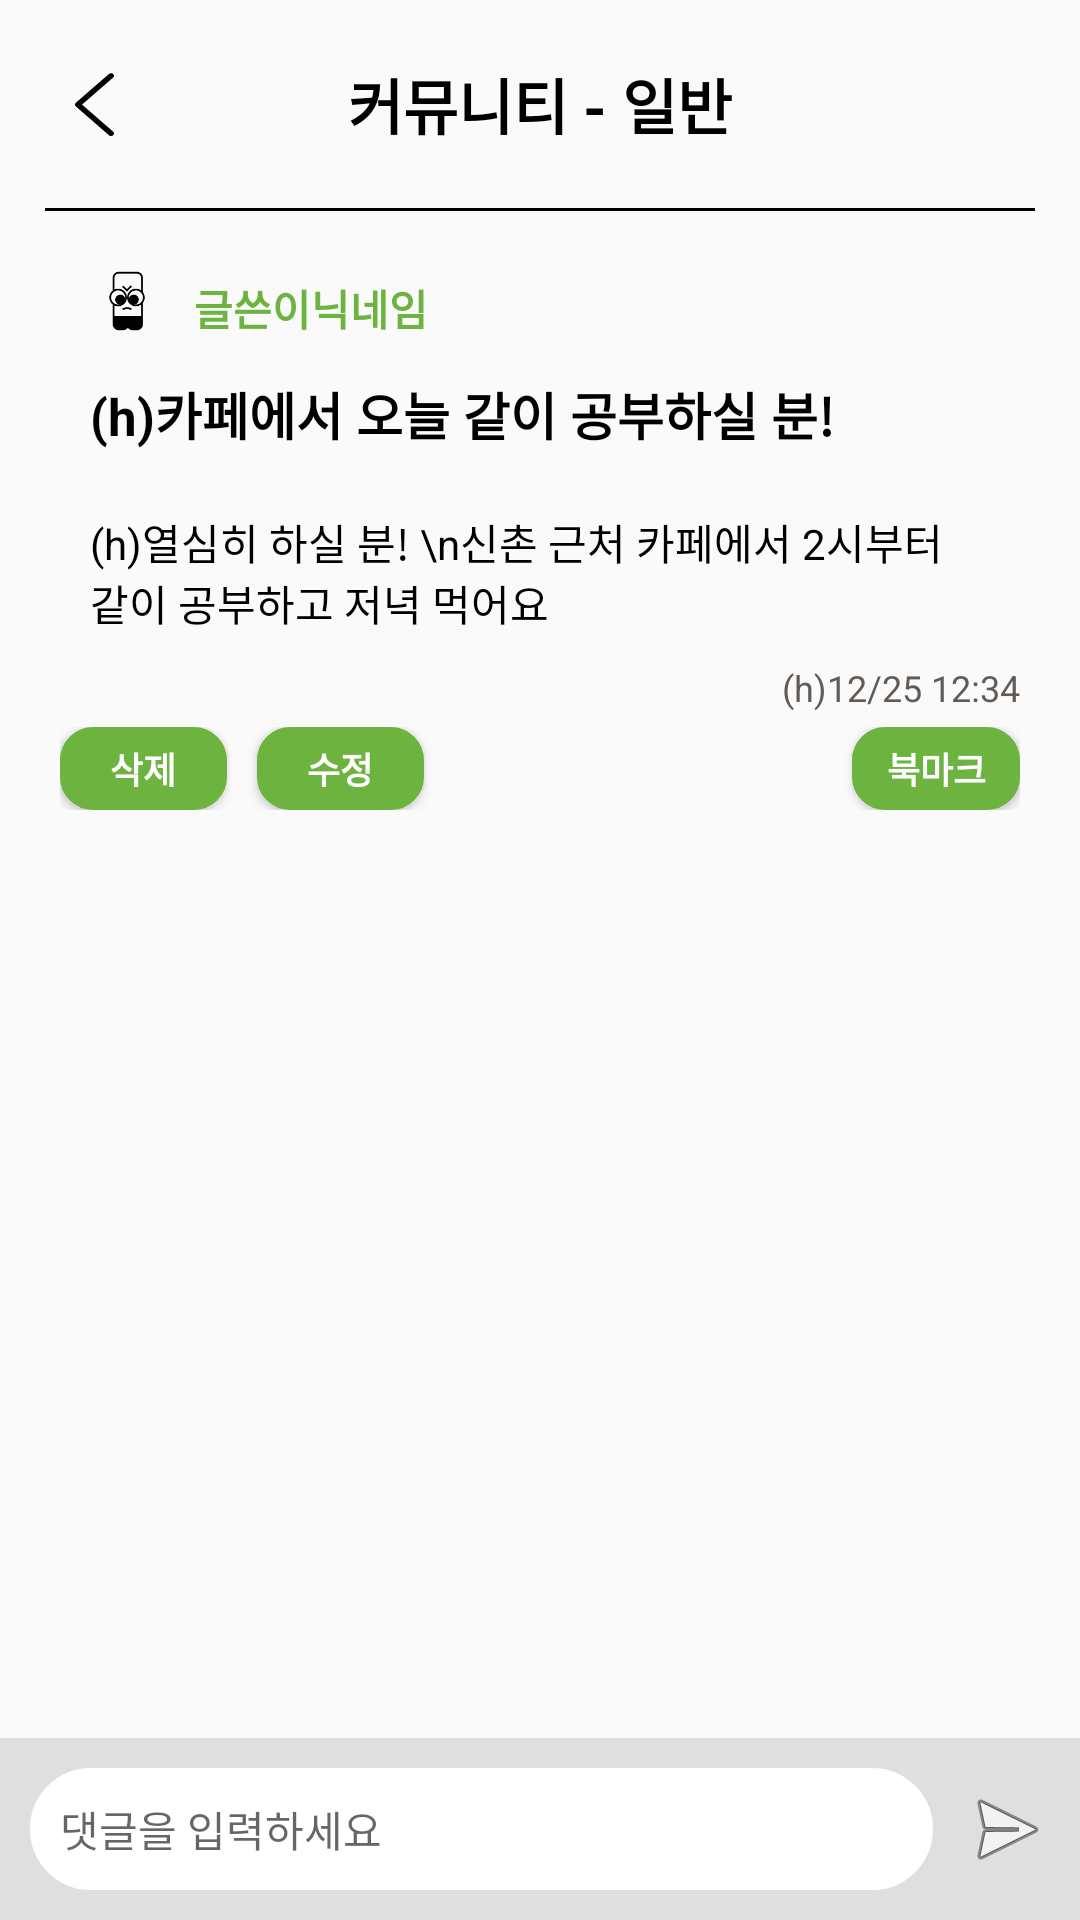

Screen size 1080*1920. Icon name, then its center in pixels as (x,y):
before: (94,104)
noun dooda angry: (127,301)
send: (1008,1829)
